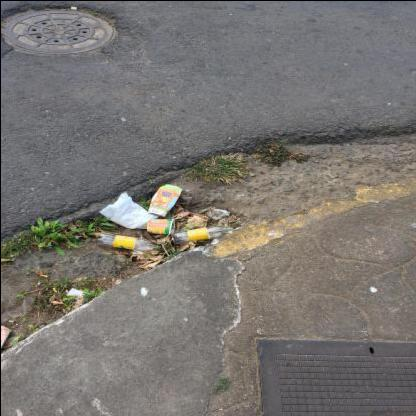Bottle cap: (96, 232, 160, 250), (170, 225, 232, 243)
Carton: (147, 183, 182, 215)
Cigarette: (51, 286, 56, 292), (38, 274, 46, 277), (63, 288, 68, 292)
Cup: (146, 218, 174, 234)
Plastic bag - wrapper: (99, 191, 158, 228), (205, 208, 229, 220)
Unlabeled litter: (65, 287, 83, 295)
